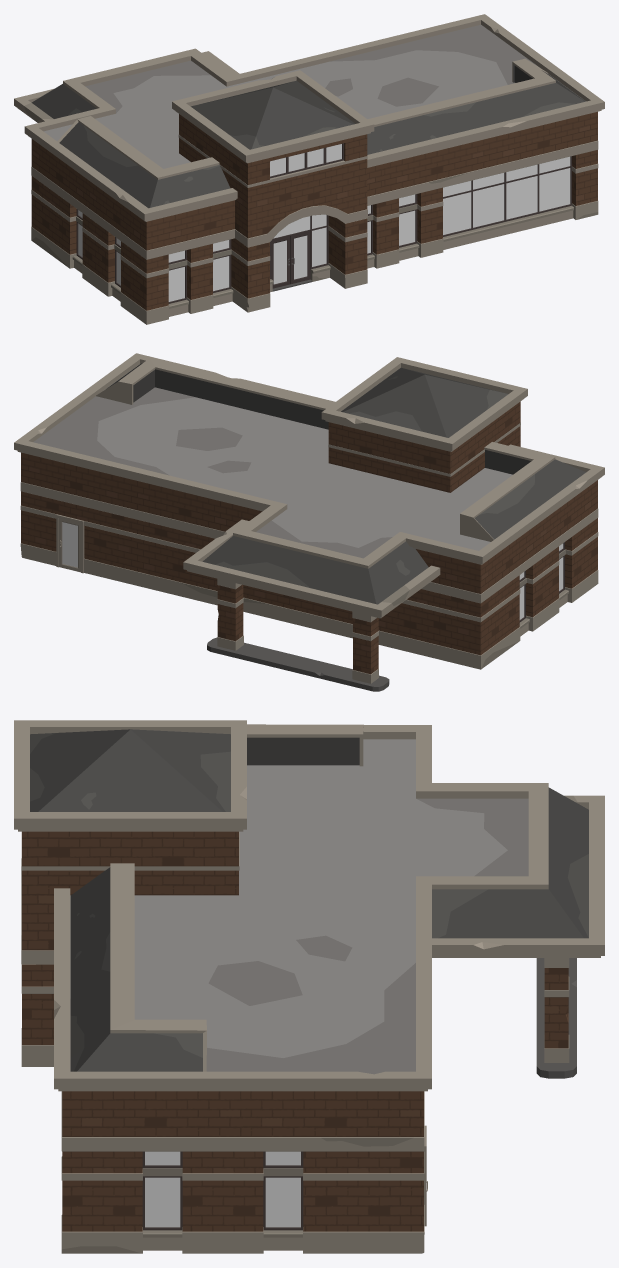
Rendered from SM_Bldg_City_Generic_05.fbx.
3 views of the same model, one above another, from view 1: azimuth 30°, elevation 25°; view 2: azimuth 150°, elevation 25°; view 3: azimuth 270°, elevation 25° (orthographic). The views are drawn at different scales.
Parts seen in each view (by area): view 1: SM_Bldg_City_Generic_05, SM_Bldg_City_Generic_05_Glass; view 2: SM_Bldg_City_Generic_05; view 3: SM_Bldg_City_Generic_05, SM_Bldg_City_Generic_05_Glass.
Part boxes in pixels (<box>): SM_Bldg_City_Generic_05: <box>14,14,604,324</box>; SM_Bldg_City_Generic_05_Glass: <box>78,144,570,301</box>; SM_Bldg_City_Generic_05: <box>14,353,604,691</box>; SM_Bldg_City_Generic_05: <box>14,720,604,1253</box>; SM_Bldg_City_Generic_05_Glass: <box>145,1151,300,1227</box>.
Size of the model in its own units: 2517 by 968 by 1779.
